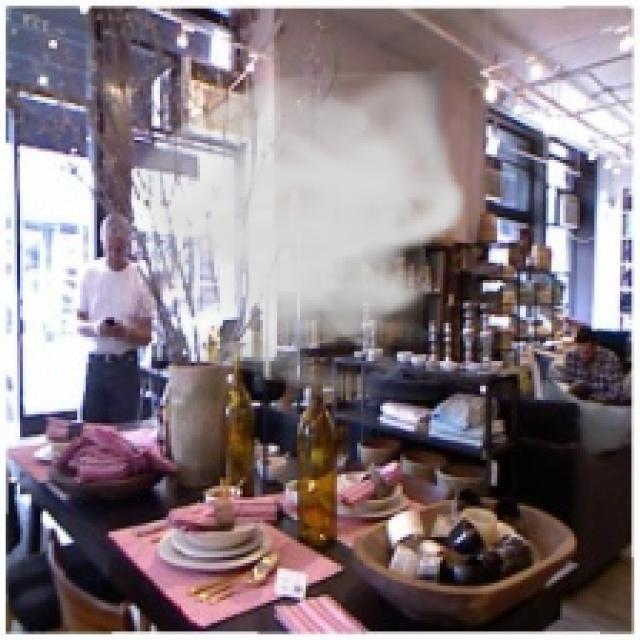smoke: (120, 60, 469, 409)
